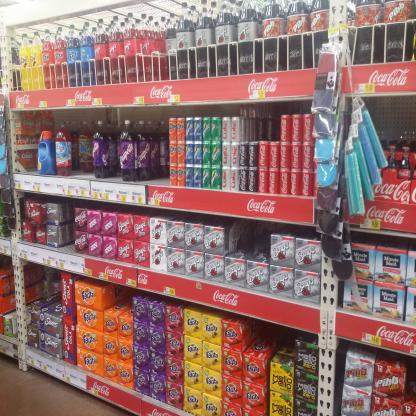Void: (245, 320, 293, 363), (22, 263, 63, 312), (230, 219, 270, 259), (375, 100, 414, 140), (246, 99, 280, 138), (104, 282, 132, 314), (61, 206, 74, 249), (74, 168, 97, 182), (156, 174, 169, 189)
